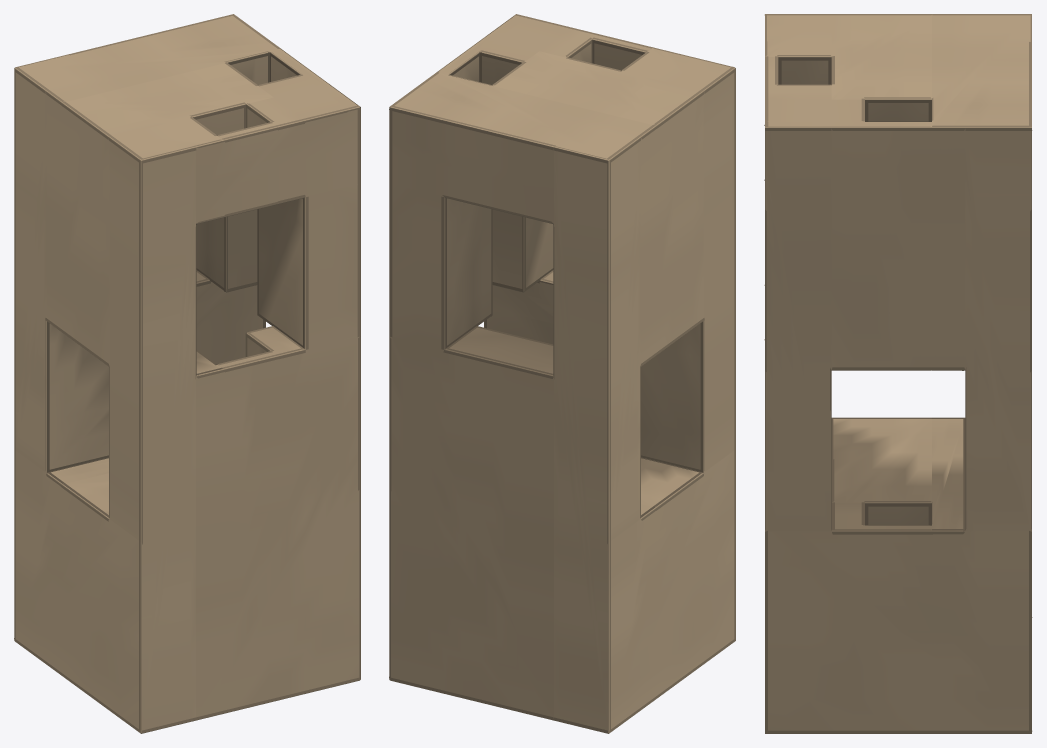
3 views of the same model, side by side, from view 1: azimuth 30°, elevation 25°; view 2: azimuth 150°, elevation 25°; view 3: azimuth 270°, elevation 25° (orthographic). The views are drawn at different scales.
Visible parts, largest first — view 1: part-a; view 2: part-a; view 3: part-a.
Boxes of the visible parts, box(x1,y1,x2,y2) form: part-a: box(14, 14, 360, 733); part-a: box(389, 14, 735, 733); part-a: box(764, 14, 1032, 733).
Bounding box in the file's own units: 0.1216 × 0.3008 × 0.1208.
